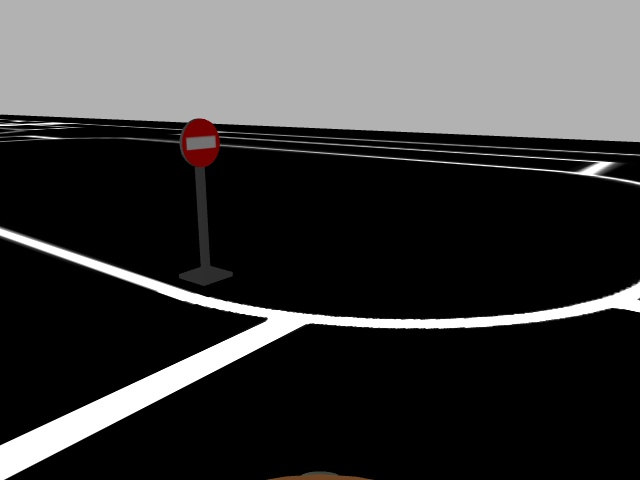prohibited: (179, 116, 219, 170)
